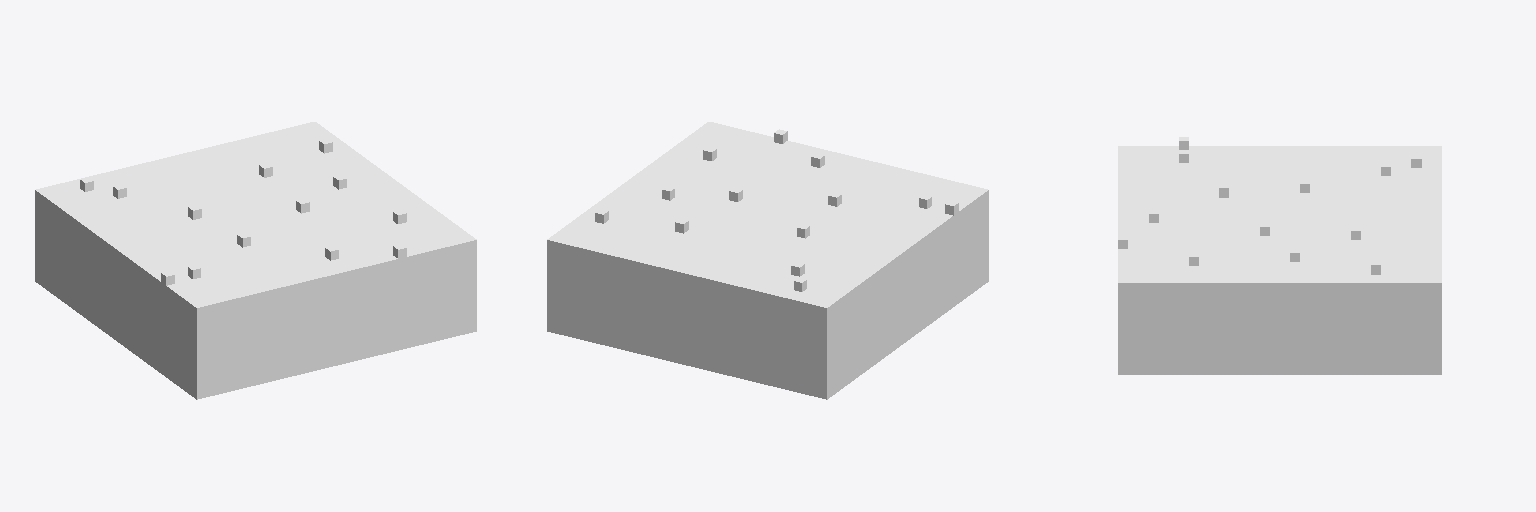
File: Overworld_Land_20.obj
3 views of the same model, side by side, from view 1: azimuth 30°, elevation 25°; view 2: azimuth 150°, elevation 25°; view 3: azimuth 270°, elevation 25° (orthographic).
Parts seen in each view (by area): view 1: object 1; view 2: object 1; view 3: object 1.
Boxes of the visible parts, x1,y1,x2,y2 form: object 1: [35, 122, 476, 399]; object 1: [547, 122, 988, 399]; object 1: [1118, 137, 1441, 374].
Size of the model in its own units: 3.2 by 1.1 by 3.2.